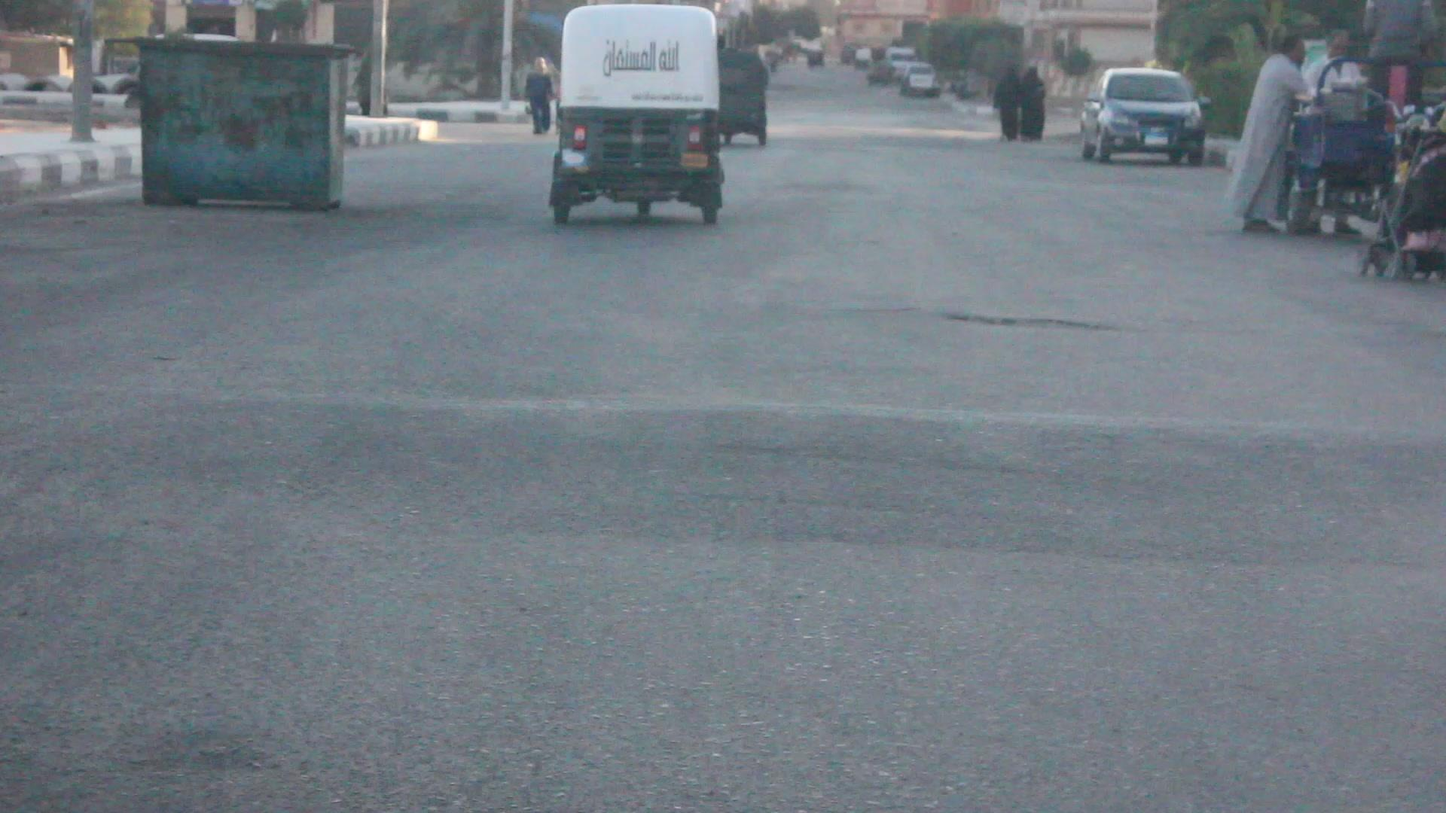Bump: (30, 367, 1446, 612)
